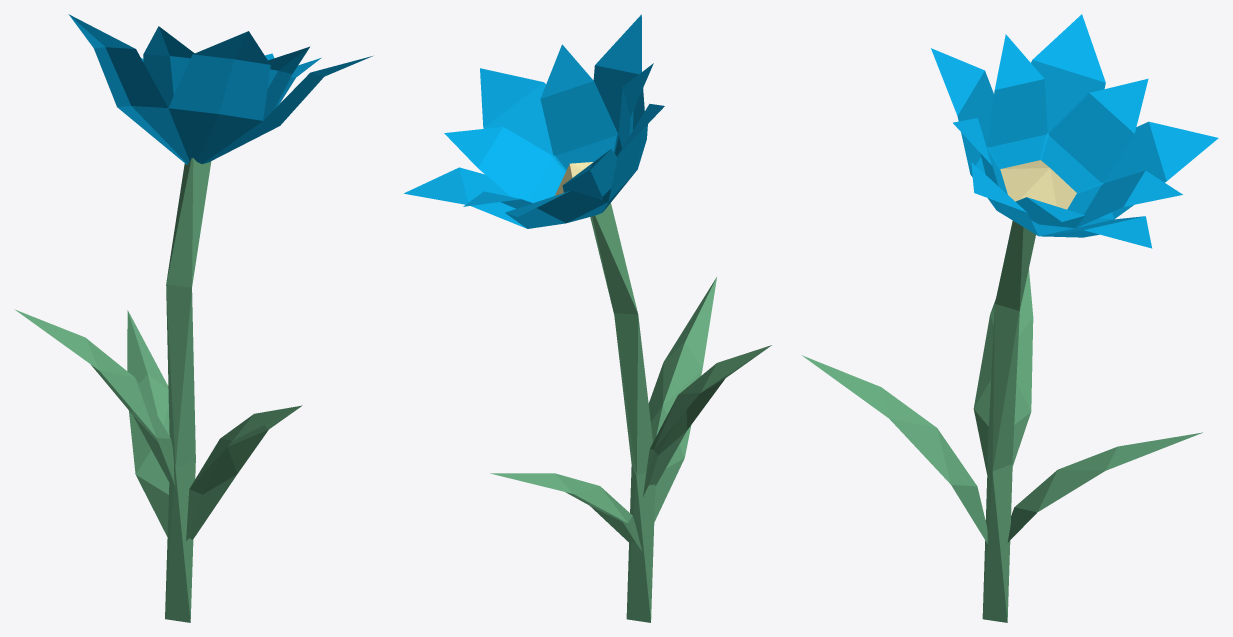
The model's file is Prop_Flower_Lily_Blue.glb.
3 views of the same model, side by side, from view 1: azimuth 30°, elevation 25°; view 2: azimuth 150°, elevation 25°; view 3: azimuth 270°, elevation 25° (orthographic). The views are drawn at different scales.
Parts seen in each view (by area): view 1: object7, object5, object4, object10, object11, object16, object1, object9, object15, object12, object17; view 2: object17, object6, object11, object12, object4, object16, object1, object7, object10, object9, object3, object13 (+4 smaller); view 3: object8, object15, object11, object5, object4, object13, object16, object1, object10, object7, object14, object2 (+5 smaller).
Boxes of the visible parts, x1,y1,x2,y2 form: object7: (168, 31, 270, 163); object5: (68, 14, 189, 164); object4: (166, 284, 195, 467); object10: (127, 310, 169, 536); object11: (186, 405, 302, 540); object16: (14, 309, 175, 485); object1: (165, 459, 195, 622); object9: (166, 158, 211, 287); object15: (143, 26, 194, 107); object12: (203, 56, 372, 163); object17: (263, 46, 310, 120); object17: (540, 44, 617, 169); object6: (444, 127, 565, 202); object11: (648, 277, 716, 521); object12: (480, 68, 566, 171); object4: (614, 313, 652, 475); object16: (643, 345, 771, 496); object1: (626, 465, 655, 622); object7: (593, 14, 644, 153); object10: (490, 473, 641, 550); object9: (590, 203, 637, 314); object3: (404, 167, 526, 228); object13: (505, 190, 608, 228); object8: (1041, 78, 1148, 192); object15: (987, 34, 1047, 168); object11: (801, 355, 987, 543); object5: (1031, 14, 1105, 160); object4: (987, 304, 1019, 471); object13: (1076, 121, 1218, 219); object16: (973, 269, 1033, 474); object1: (982, 462, 1012, 622); object10: (1007, 432, 1202, 542); object7: (931, 48, 1000, 174); object14: (1067, 170, 1182, 227); object2: (1000, 160, 1076, 209).
Size of the model in its own units: 0.3218 by 0.5545 by 0.3582.
